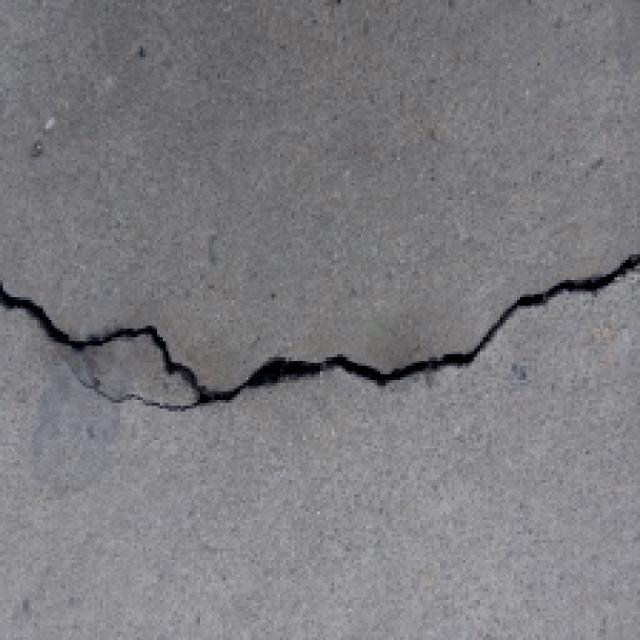crack: (0, 252, 640, 426)
